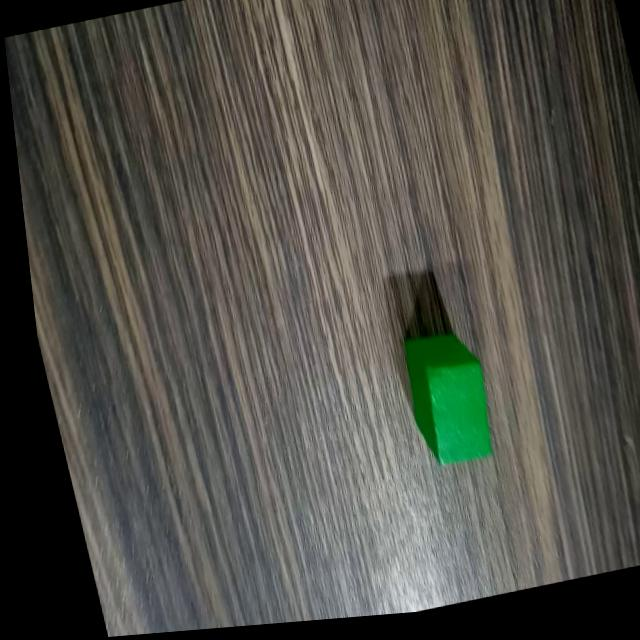cube: (384, 326, 499, 483)
